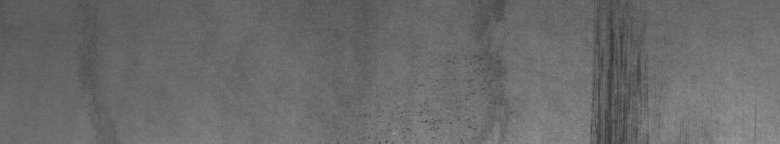ka: (584, 7, 648, 136)
